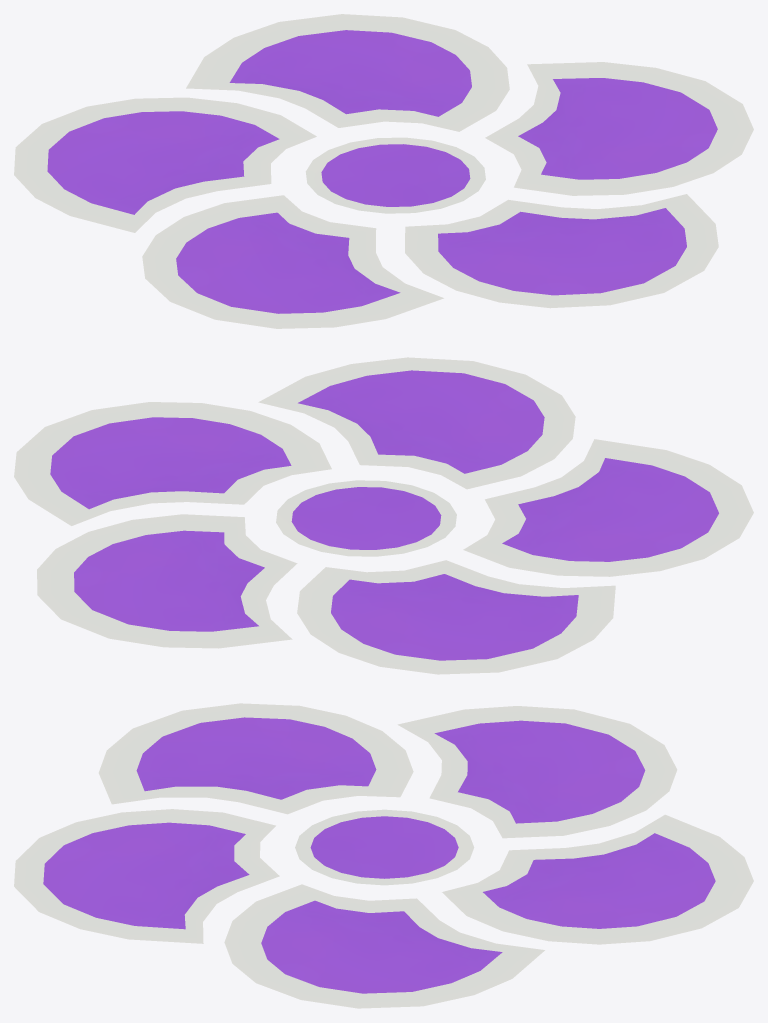
The model's file is top_fan.fbx.
The picture shows the model from 3 angles, top to bottom: view 1: azimuth 30°, elevation 25°; view 2: azimuth 150°, elevation 25°; view 3: azimuth 270°, elevation 25°; orthographic projection.
Parts seen in each view (by area): view 1: top_fan; view 2: top_fan; view 3: top_fan.
Part boxes in pixels (box(x1,y1,x2,y2)): top_fan: box(14, 14, 753, 328); top_fan: box(14, 357, 753, 674); top_fan: box(14, 703, 753, 1008).
Size of the model in its own units: 3.77 by 0 by 3.86.
